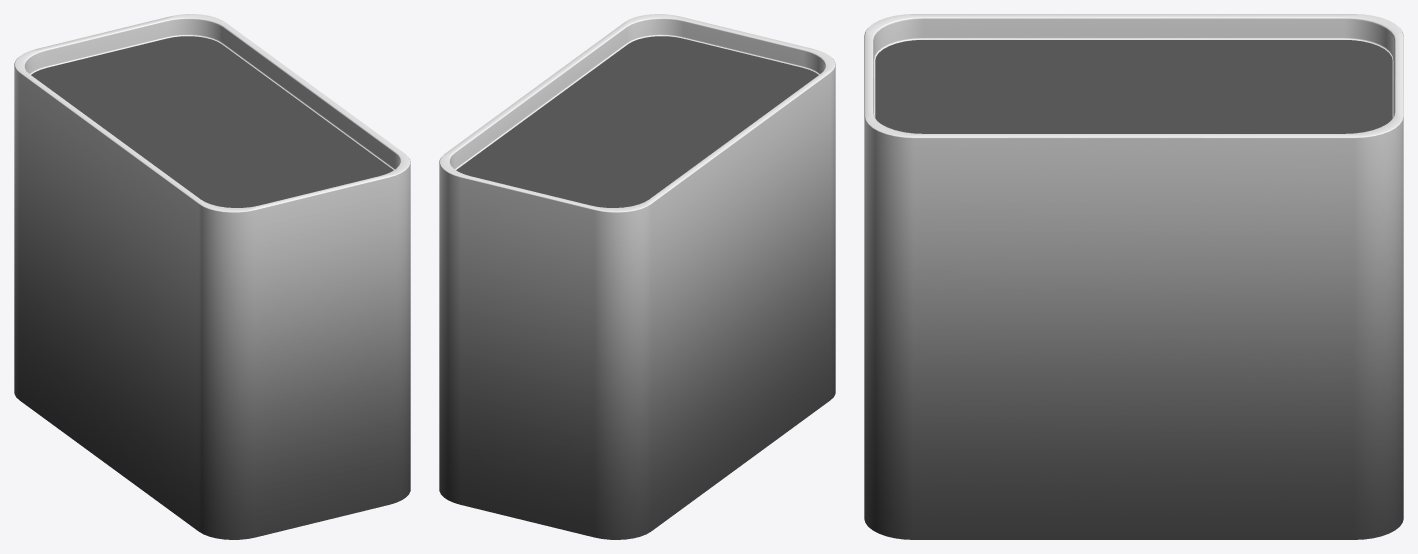
Rendered from Platfrom.fbx.
3 views of the same model, side by side, from view 1: azimuth 30°, elevation 25°; view 2: azimuth 150°, elevation 25°; view 3: azimuth 270°, elevation 25° (orthographic). The views are drawn at different scales.
Parts seen in each view (by area): view 1: Platform; view 2: Platform; view 3: Platform.
Boxes of the visible parts, box(x1,y1,x2,y2) form: Platform: box(14, 14, 410, 539); Platform: box(439, 14, 835, 539); Platform: box(864, 14, 1403, 539).
Bounding box in the file's own units: 24.58 × 37.28 × 45.27.
